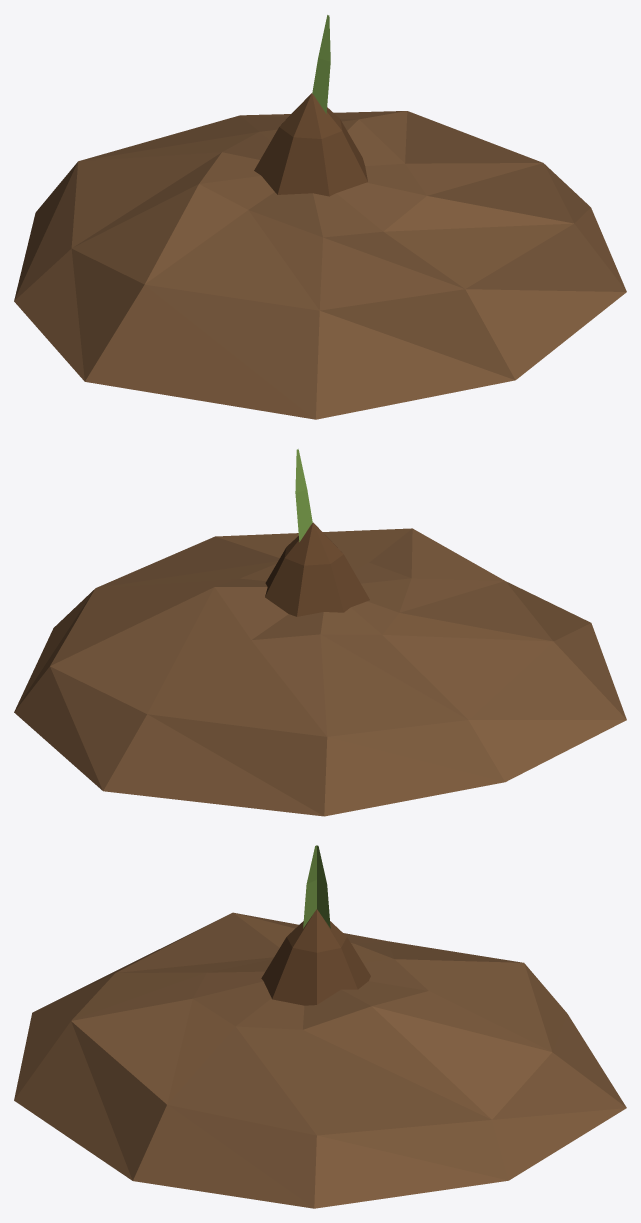
File: ZB_cicek_lale_a1.glb
3 views of the same model, one above another, from view 1: azimuth 30°, elevation 25°; view 2: azimuth 150°, elevation 25°; view 3: azimuth 270°, elevation 25° (orthographic). The views are drawn at different scales.
Parts seen in each view (by area): view 1: ZB_cicek_lale_a1; view 2: ZB_cicek_lale_a1; view 3: ZB_cicek_lale_a1.
Part boxes in pixels (left/top/right/bottom): ZB_cicek_lale_a1: left=14, top=15, right=626, bottom=419; ZB_cicek_lale_a1: left=14, top=449, right=626, bottom=816; ZB_cicek_lale_a1: left=14, top=845, right=626, bottom=1208.
Size of the model in its own units: 0.3546 by 0.155 by 0.3557.
